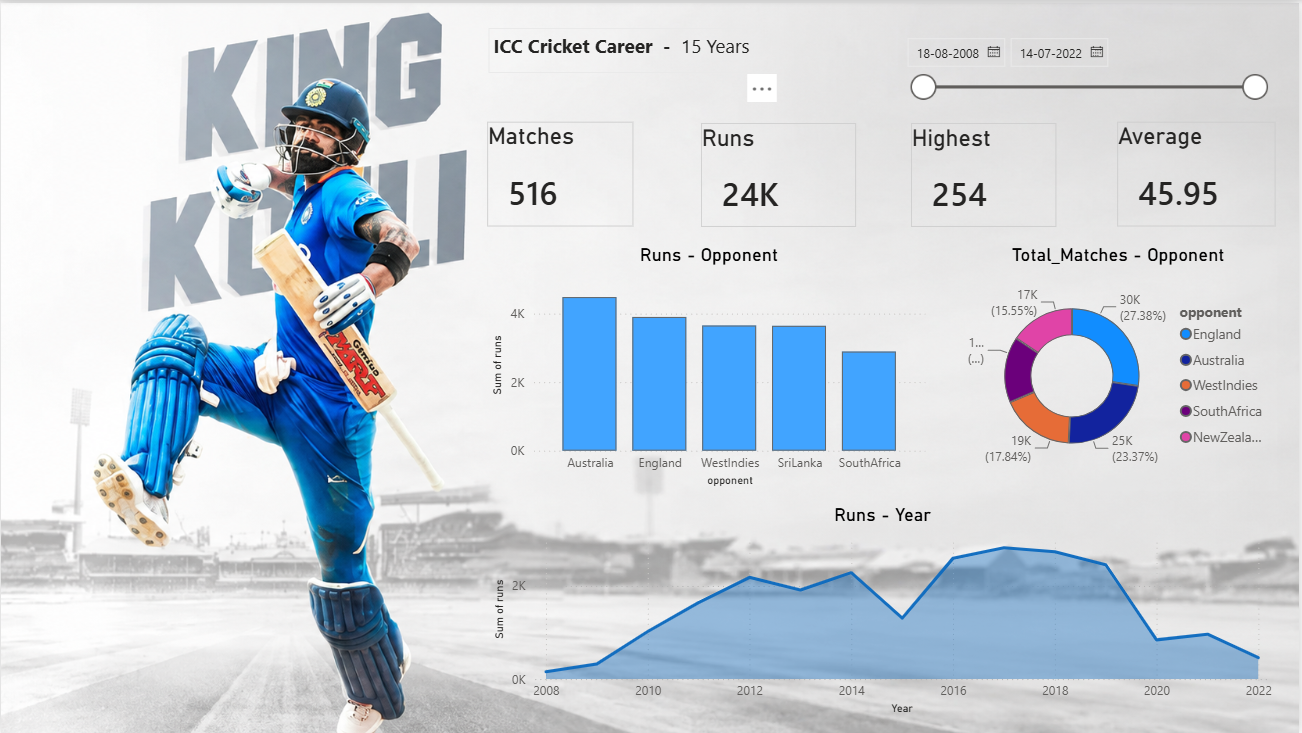

The dashboard page shown, as its layout file describes it:
{"tool":"powerbi","page":{"name":"Page 1","canvas":[1280,720],"ordinal":0},"visuals":[{"type":"cardVisual","title":"Runs","fields":{"Data":["Sum(Source.runs)"]},"box":[689.9,118.3,152.8,102.3],"z":0},{"type":"cardVisual","title":"Highest","fields":{"Data":["Max(Source.runs)"]},"box":[896.6,118.1,142.9,102.1],"z":1000},{"type":"areaChart","title":"Runs - Year","fields":{"Category":["Source.date.Variation.Date Hierarchy.Year"],"Y":["Sum(Source.runs)"]},"box":[480.2,493.4,776.9,212.3],"z":2000},{"type":"donutChart","title":"Total_Matches - Opponent","fields":{"Y":["Sum(Source.Match_No)"],"Category":["Source.opponent"]},"box":[944.6,237.7,312.5,243.7],"z":3000},{"type":"cardVisual","title":"Average","fields":{"Data":["Avg(Source.runs)"]},"box":[1100.7,116.6,156,103.5],"z":4000},{"type":"cardVisual","title":"Matches","fields":{"Data":["CountNonNull(Source.match)"]},"box":[479.6,116.6,144.3,103.5],"z":5000},{"type":"textbox","box":[480.2,24.1,285.9,44.6],"z":6000},{"type":"slicer","fields":{"Values":["Source.date"]},"box":[880.7,12.1,376.4,89.3],"z":7000},{"type":"columnChart","title":"Runs - Opponent","fields":{"Y":["Sum(Source.runs)"],"Category":["Source.opponent"]},"box":[479.6,237.6,437.4,243.5],"z":8000}]}

Visuals, with their boxes in screenshot pixels (x1, y1, x2, y2), scaled from the page's 1280x720 canvas onto the 1302x733 screenshot:
"Runs" cardVisual: x1=702, y1=120, x2=857, y2=225
"Highest" cardVisual: x1=912, y1=120, x2=1057, y2=224
"Runs - Year" areaChart: x1=488, y1=502, x2=1279, y2=718
"Total_Matches - Opponent" donutChart: x1=961, y1=242, x2=1279, y2=490
"Average" cardVisual: x1=1120, y1=119, x2=1278, y2=224
"Matches" cardVisual: x1=488, y1=119, x2=635, y2=224
textbox: x1=488, y1=25, x2=779, y2=70
slicer - Source.date: x1=896, y1=12, x2=1279, y2=103
"Runs - Opponent" columnChart: x1=488, y1=242, x2=933, y2=490
